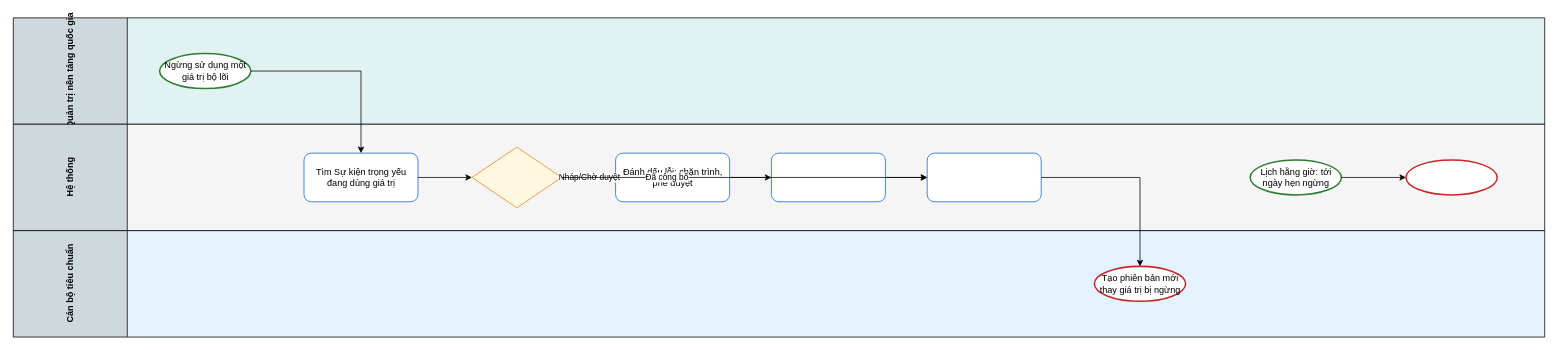
Image size: 1558x350. Some labels were removed from this diagram. Here are the shapes that lost their labels. From the top down, the box of each, then its label:
(471, 146, 562, 208): Trạng thái?
(771, 152, 885, 202): Giữ hiệu lực; gắn nhãn cảnh báo
(926, 152, 1041, 202): Thông báo đơn vị sở hữu
(1405, 159, 1498, 195): Chuyển Ngừng áp dụng, cập nhật danh mục, thông báo
